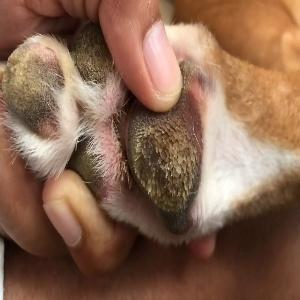keratosis: (123, 109, 204, 234)
